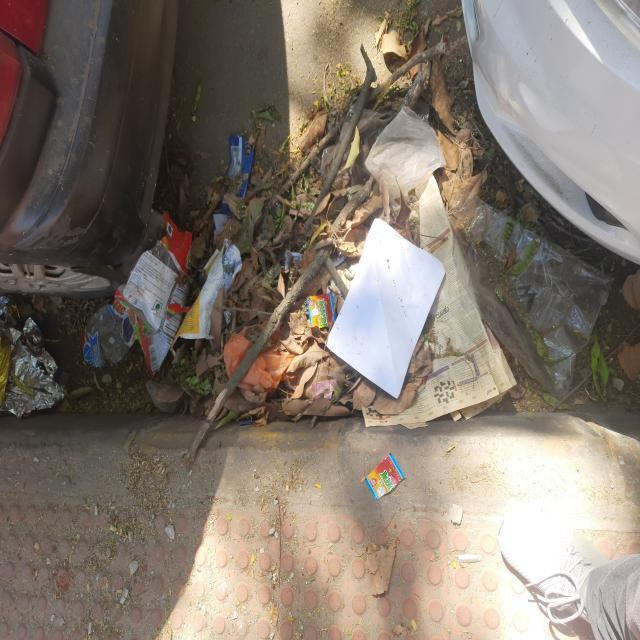Garbage: (0, 55, 640, 430), (369, 455, 402, 498), (425, 43, 454, 55)
Plastic_Bag: (449, 193, 612, 398), (365, 107, 446, 202), (0, 297, 64, 417), (351, 110, 396, 183), (84, 305, 129, 367), (320, 142, 339, 177), (329, 363, 359, 383), (339, 107, 354, 142), (414, 100, 430, 122), (341, 147, 350, 165)
Plastic_wraper: (114, 213, 192, 377), (174, 242, 241, 342), (366, 453, 405, 500), (228, 135, 252, 198), (308, 293, 336, 328), (220, 200, 231, 215), (376, 477, 378, 480)
